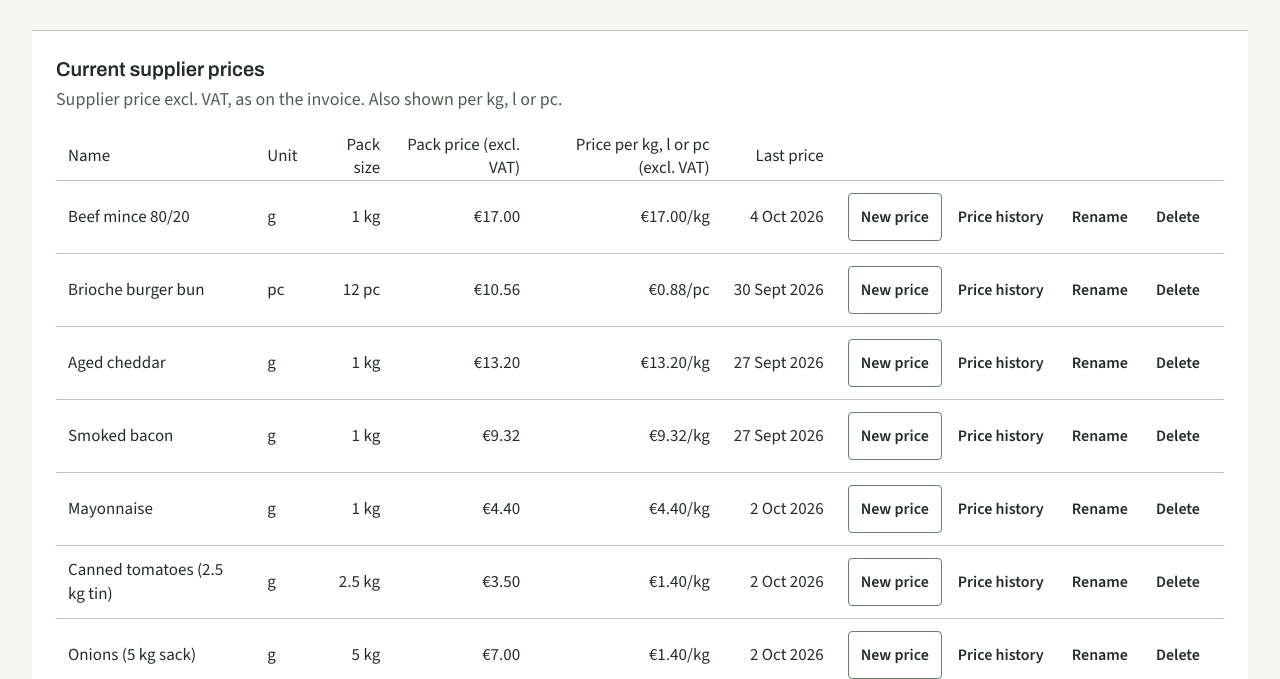
it: a successful write is published even if subsequent storage reads fail
(page scrolled)
Click the button "Rename" in the row of "Beef mince 80/20" at (1100, 217), box [1060,193,1140,241]
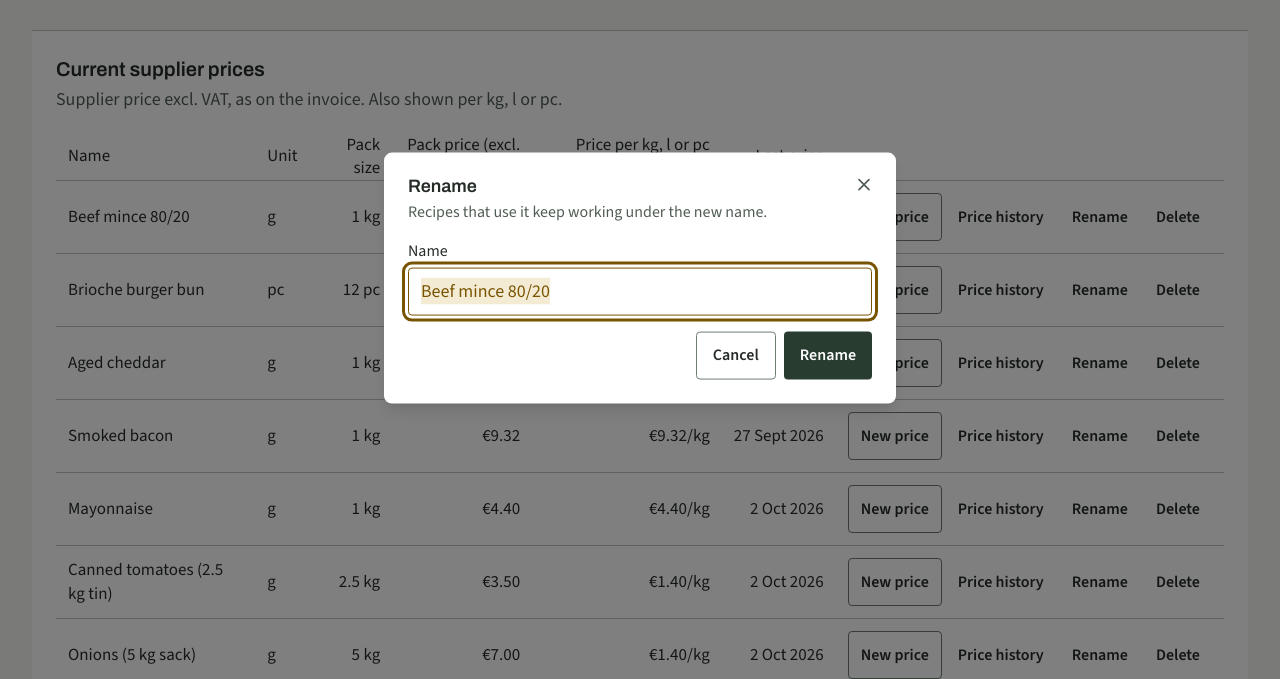
Replace the text in the field labelled "Name" with "Saved beef" at (640, 291), box [408,267,872,315]
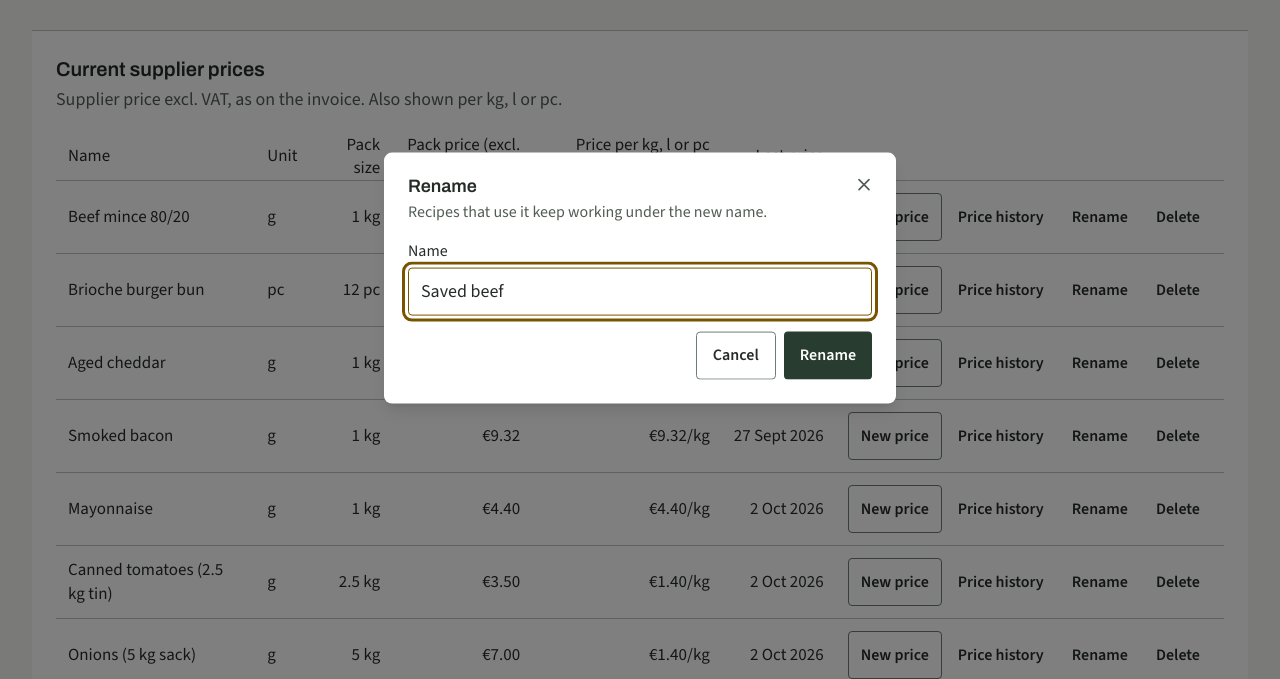
Click the button "Rename" at (828, 355), box [784,331,872,379]
(page scrolled)
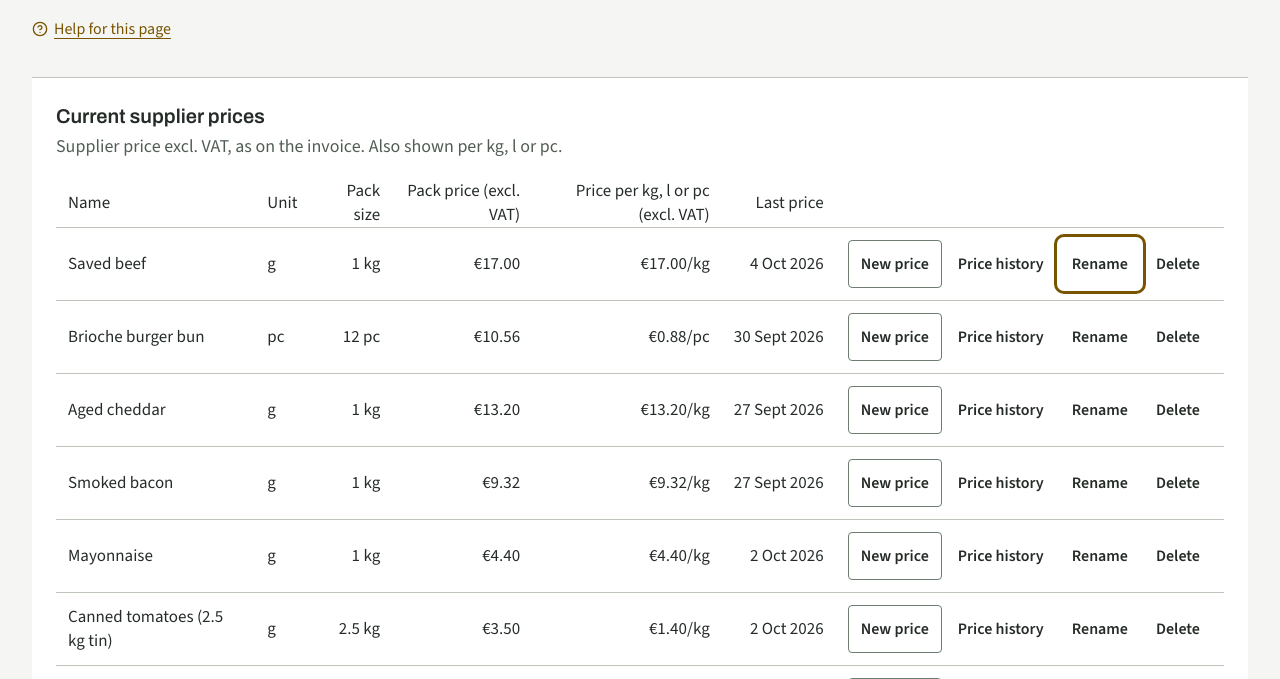
Check: the dialog is gone
Check: the text "Saved beef" is shown, box [56,228,255,300]
